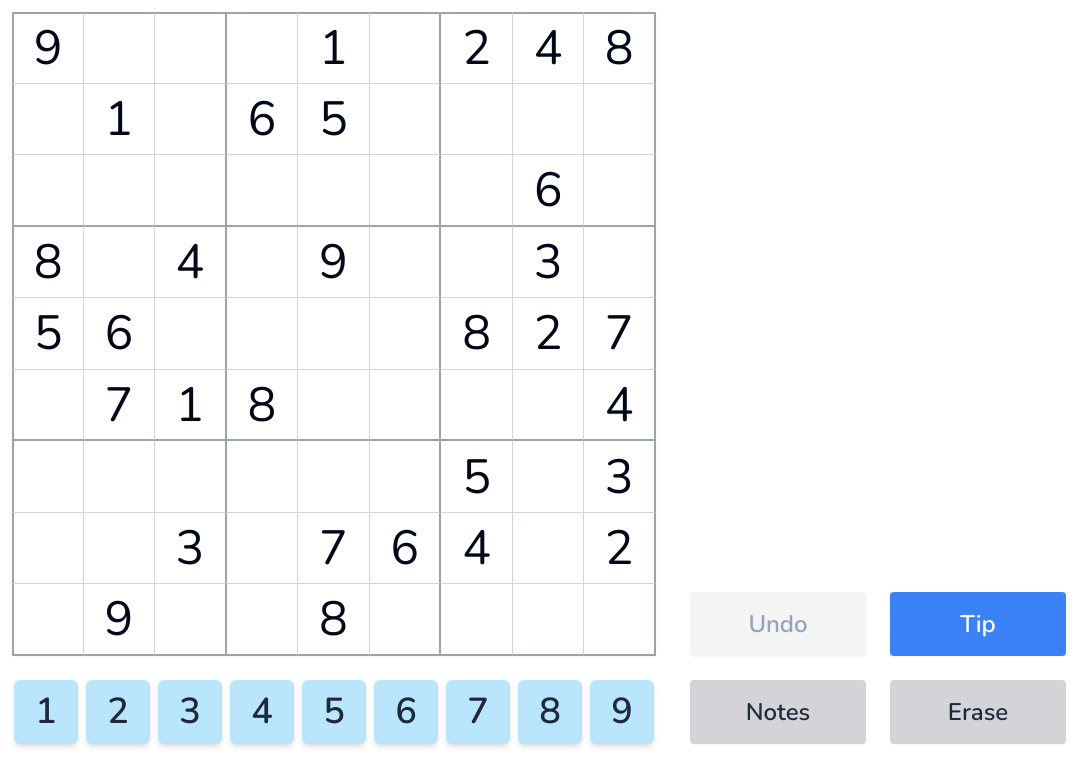
Scenario: digit toggled 'on' › should replace '3' in cell-1 with '5'
What coordinates should you click on to do the following:
click the button "3"
I would click on:
 (190, 712)
Its box is [158,680,222,744].
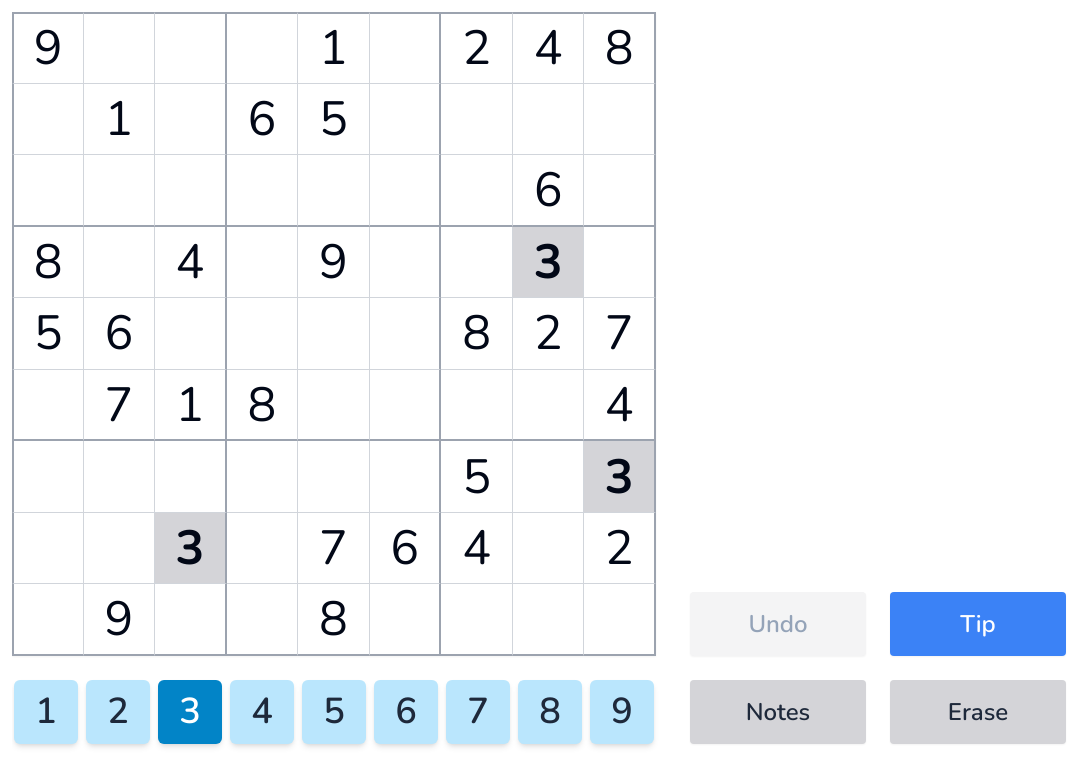
What coordinates should you click on to do the following:
click the element with test id "cell"
I would click on:
 (119, 48)
Its box is [84,12,155,84].
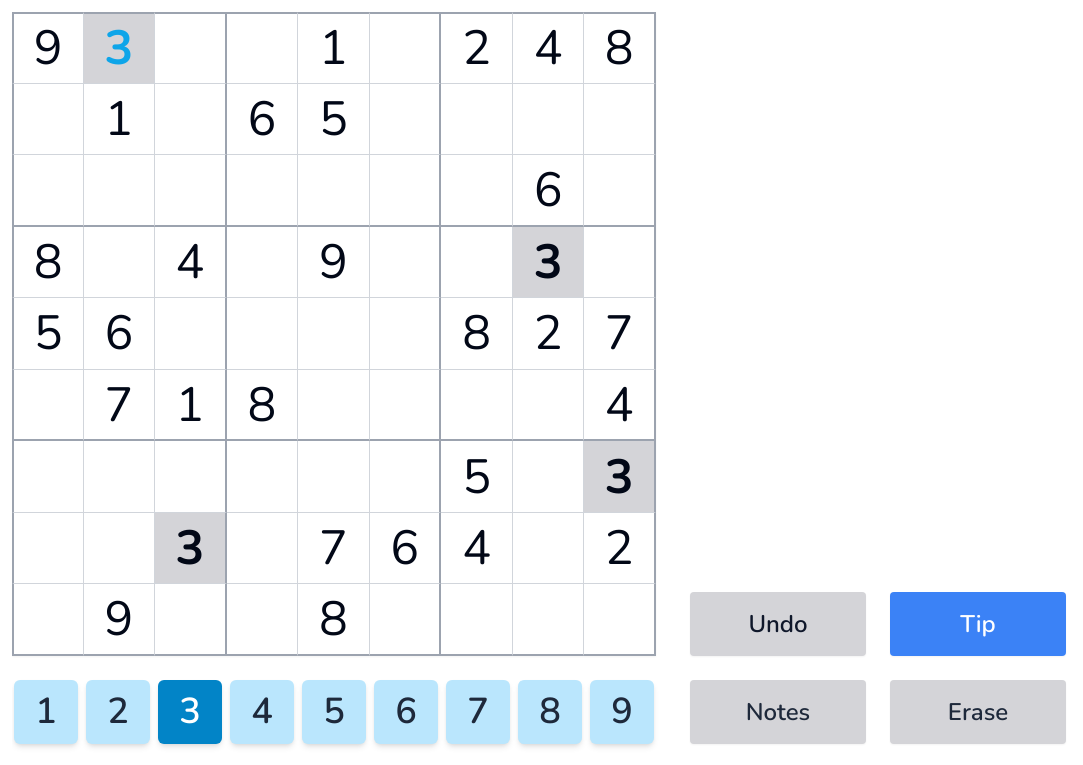
Result: the element with test id "cell" reads "3" at [104,15,133,81]
What coordinates should you click on to do the following:
click the button "5"
I would click on:
 (334, 712)
Its box is [302,680,366,744].
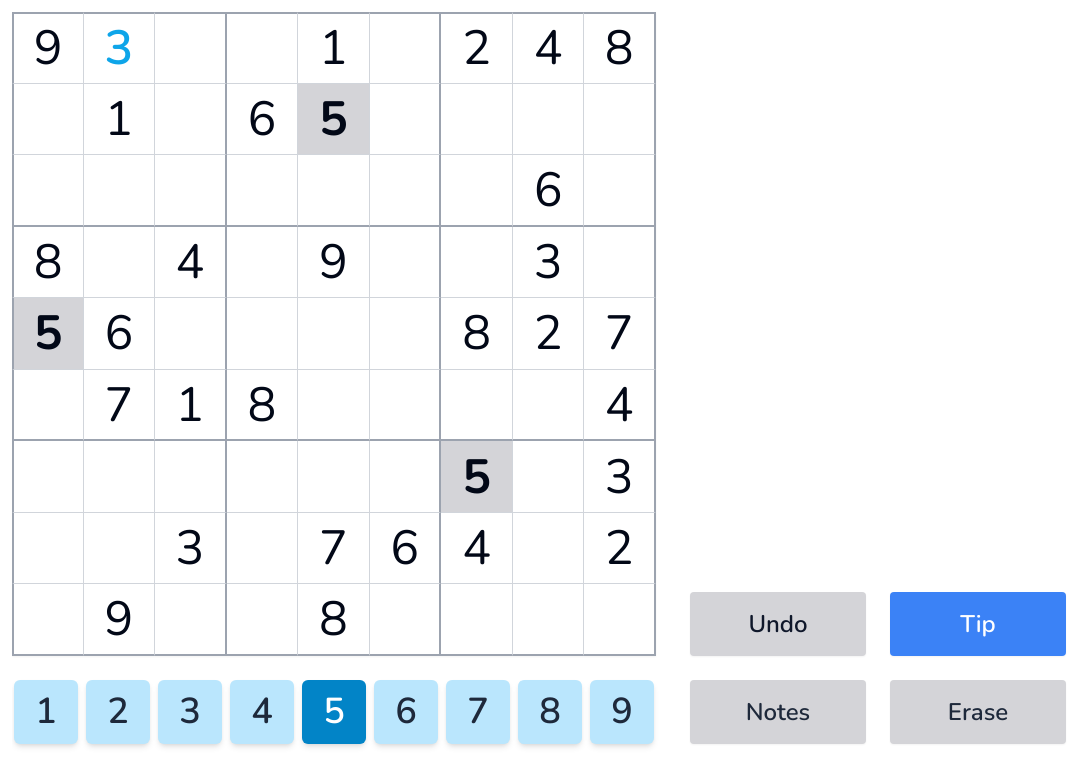
What coordinates should you click on to do the following:
click the element with test id "cell"
I would click on:
 (119, 48)
Its box is [84,12,155,84].
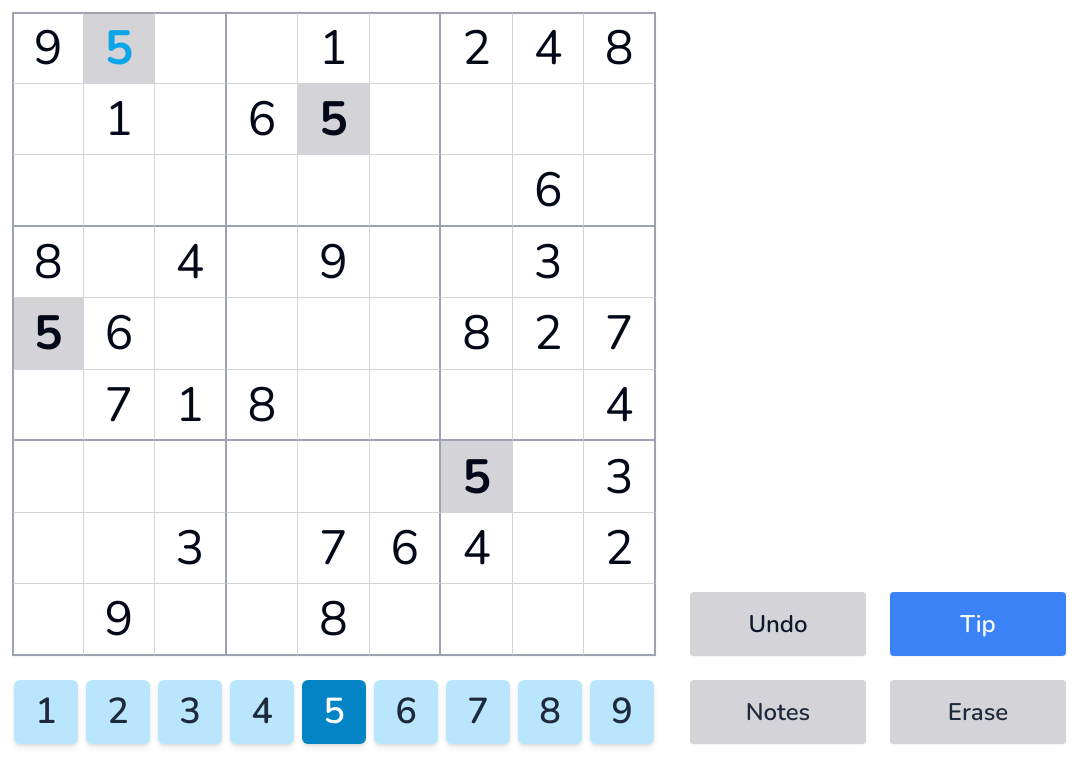
Result: the element with test id "cell" reads "5" at [104,15,133,81]
